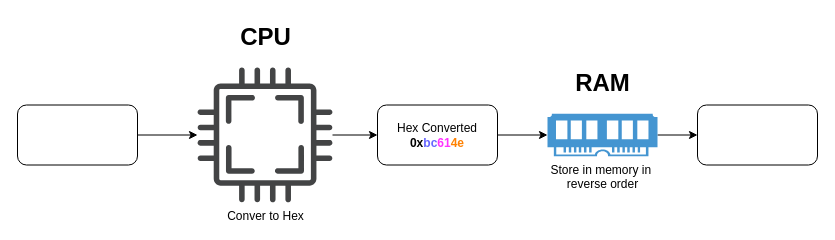
This 835x240 diagram has some shape labels left out. Here are the shapes that lost their labels. From the top down, the centre of each, then its label:
the point at 77,134: Decimal Input 123456
the point at 757,134: Hex Stored 0x 4e 61 bc
